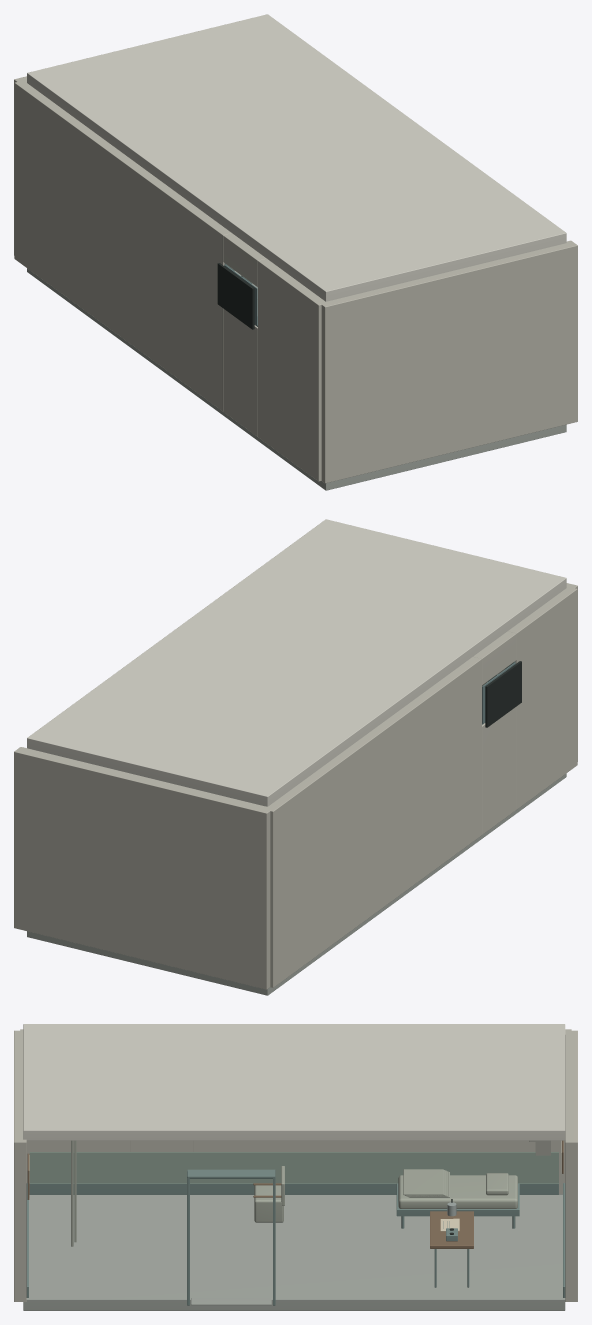
The model's file is F16_finish.glb.
3 renders of one model, top to bottom at view 1: azimuth 30°, elevation 25°; view 2: azimuth 150°, elevation 25°; view 3: azimuth 270°, elevation 25°, orthographic. The views are drawn at different scales.
Parts seen in each view (by area): view 1: F16_C2_wall, F16_C2_ceiling, F16_C2_tile, F16_C2_rubber; view 2: F16_C2_wall, F16_C2_ceiling, F16_C2_tile, F16_C2_rubber; view 3: F16_C2_ceiling, F16_C2_tile, F16_C2_paint, F16_C2_wall, F16_C2_metal, F16_C2_cloth, F16_C2_wood.
Part boxes in pixels (x1,y1,x2,y2): F16_C2_wall: (14,76,577,483); F16_C2_ceiling: (27,14,566,301); F16_C2_tile: (27,268,566,490); F16_C2_rubber: (217,263,254,329); F16_C2_wall: (14,583,577,989); F16_C2_ceiling: (27,519,566,806); F16_C2_tile: (27,773,566,995); F16_C2_rubber: (485,661,521,727); F16_C2_ceiling: (23,1024,565,1140); F16_C2_tile: (23,1194,565,1310); F16_C2_paint: (29,1152,558,1183); F16_C2_wall: (14,1029,577,1301); F16_C2_metal: (26,1169,565,1305); F16_C2_cloth: (71,1140,517,1246); F16_C2_wood: (27,1140,563,1248).
Size of the model in its own units: 4.47 by 3.16 by 8.95.
